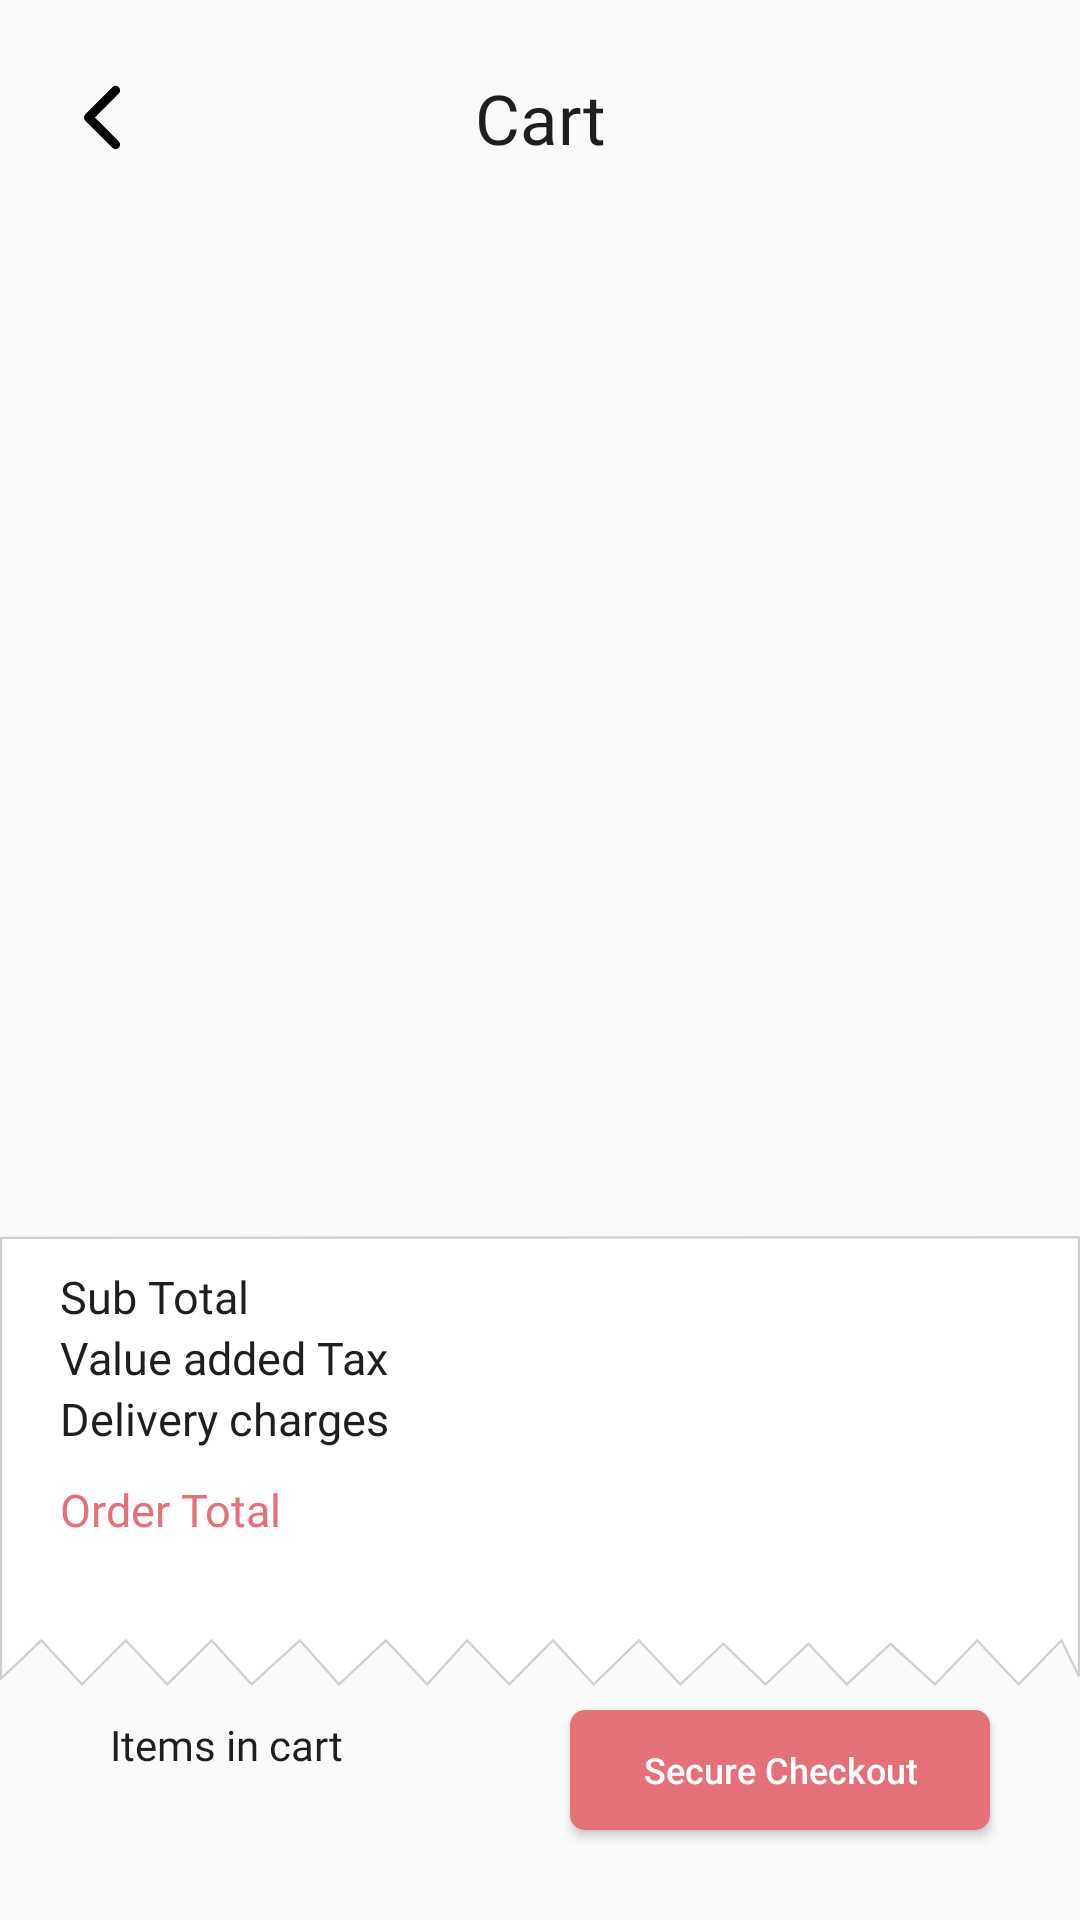

Icons on this 1080w x 1920h Android screen, each with its box as detection(x1, y1, x2, y2):
back: detection(84, 85, 120, 150)
